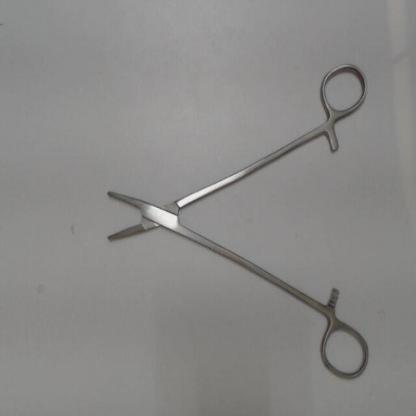8 Mayo Needle Holder: (98, 56, 375, 386)
